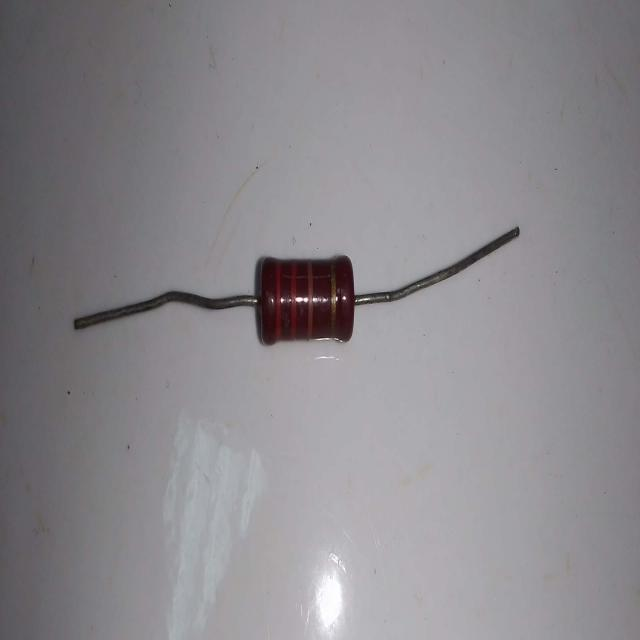Carbon Resistor: (71, 217, 539, 346)
